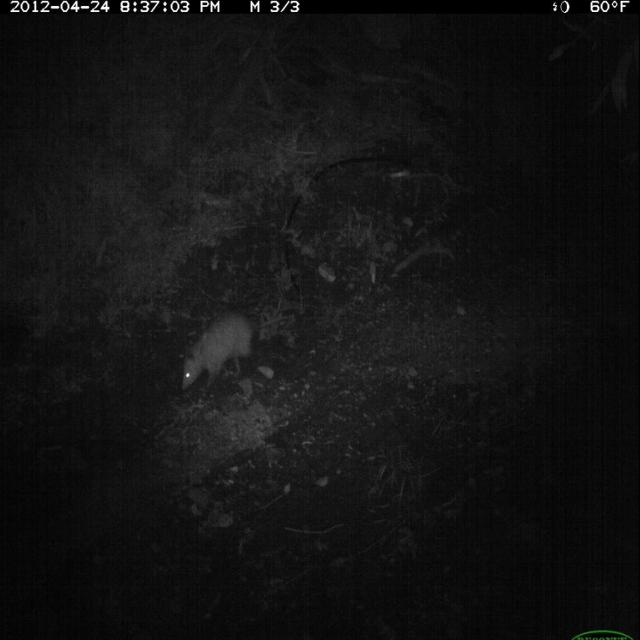opossum: (179, 305, 303, 397)
